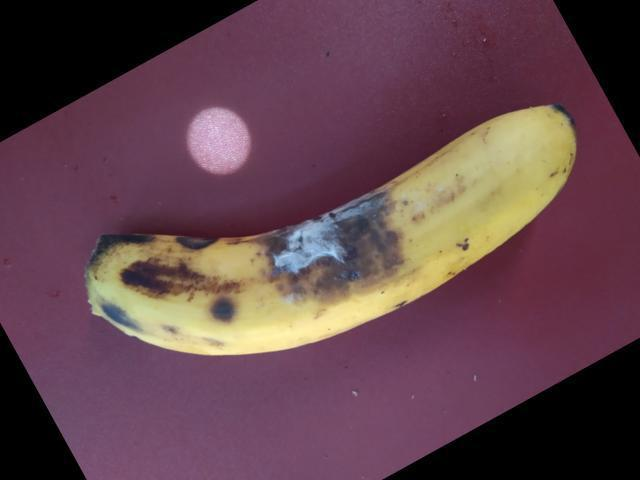overripe: (66, 96, 595, 381)
